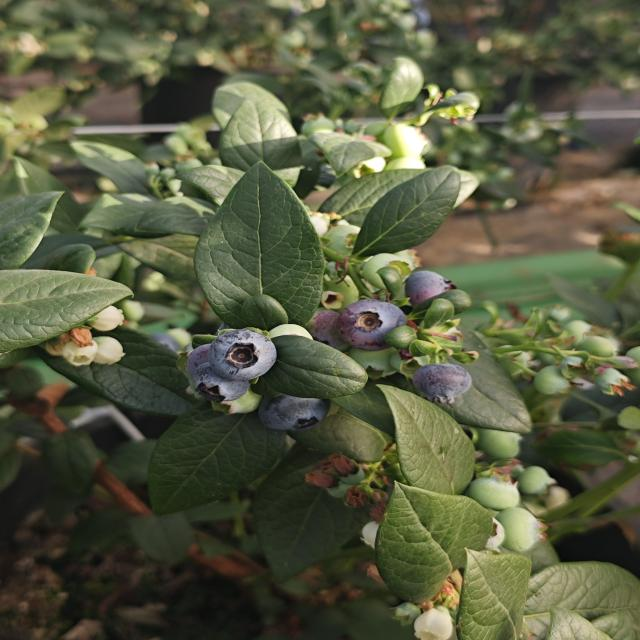ripe: (183, 327, 280, 405), (334, 298, 409, 352), (255, 392, 332, 434), (410, 361, 474, 407), (400, 265, 459, 312)
